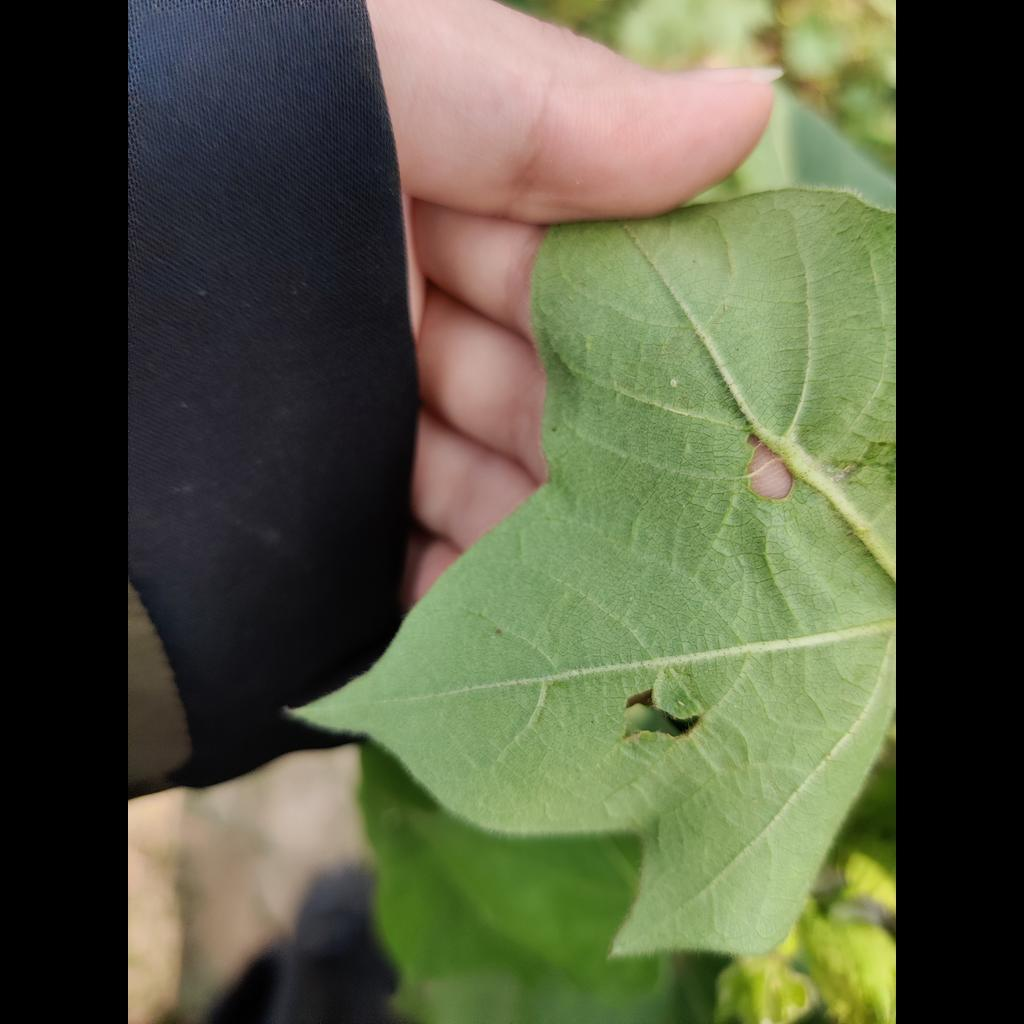nymph: (670, 378, 679, 387), (678, 700, 685, 706)
